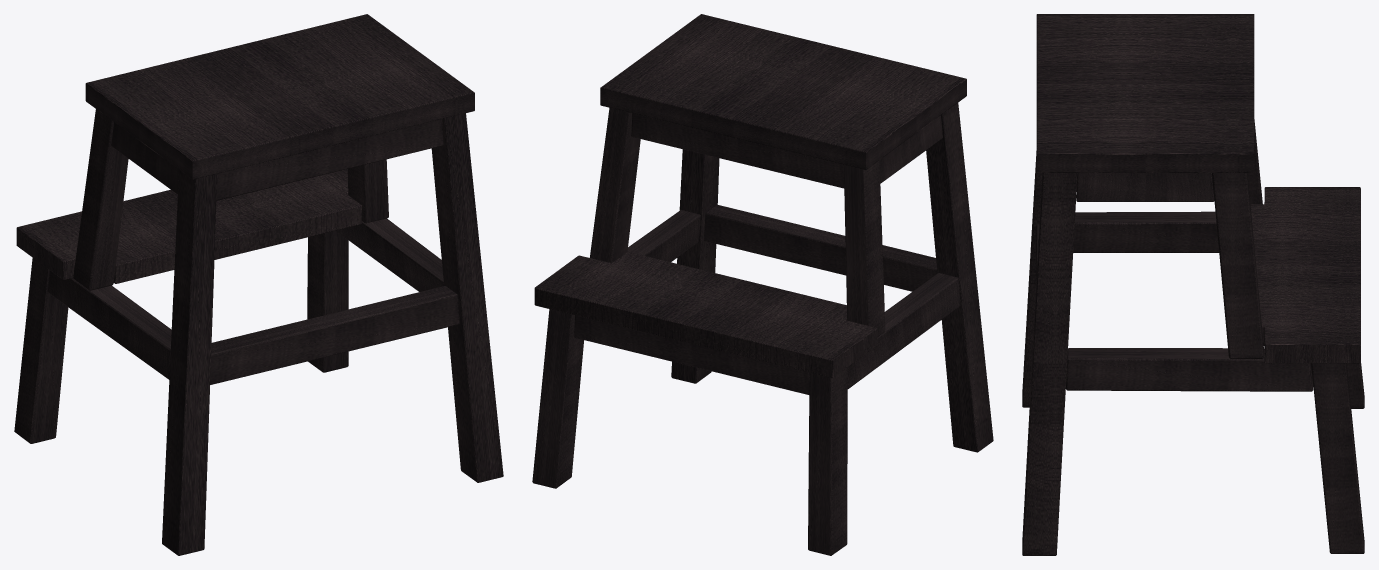
The model's file is Stool.FBX.
3 renders of one model, left to right at view 1: azimuth 30°, elevation 25°; view 2: azimuth 150°, elevation 25°; view 3: azimuth 270°, elevation 25°, orthographic. The views are drawn at different scales.
Parts seen in each view (by area): view 1: stool; view 2: stool; view 3: stool.
Boxes of the visible parts, <box> form: stool: <box>14,14,503,555</box>; stool: <box>532,14,993,555</box>; stool: <box>1022,14,1364,555</box>.
Size of the model in its own units: 49.14 by 55.55 by 44.
